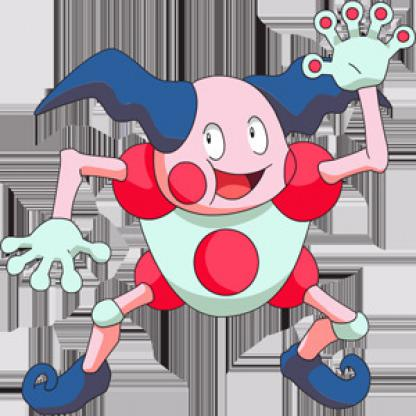Mr. Mime: (16, 3, 406, 410)
